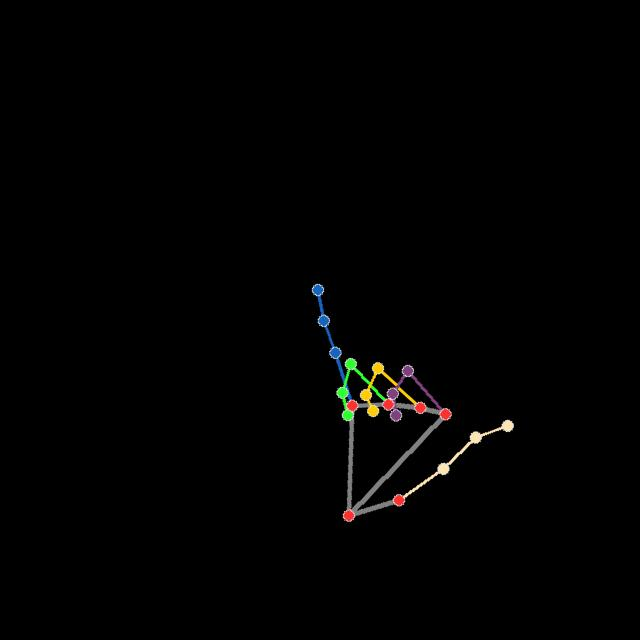skr: (309, 277, 517, 523)
